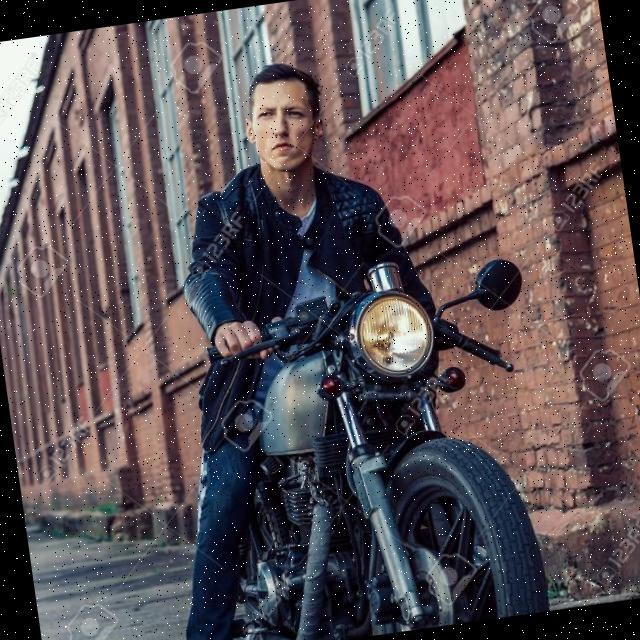No helmet: (234, 52, 339, 198)
